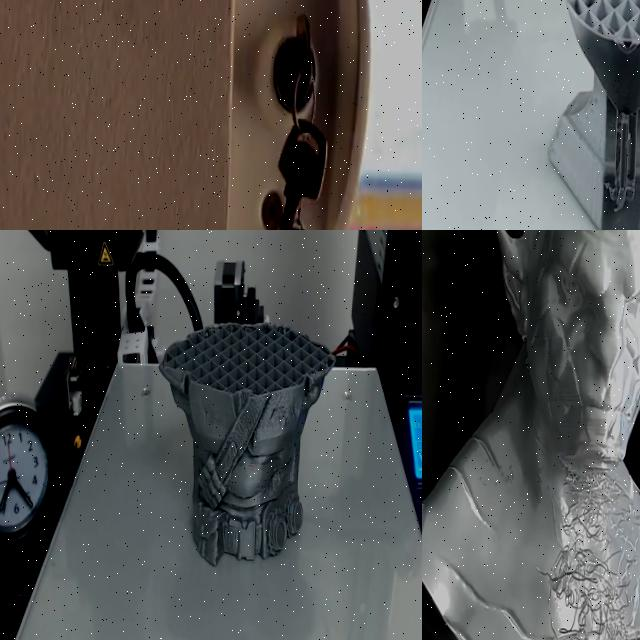spaghetti: (505, 462, 640, 640)
